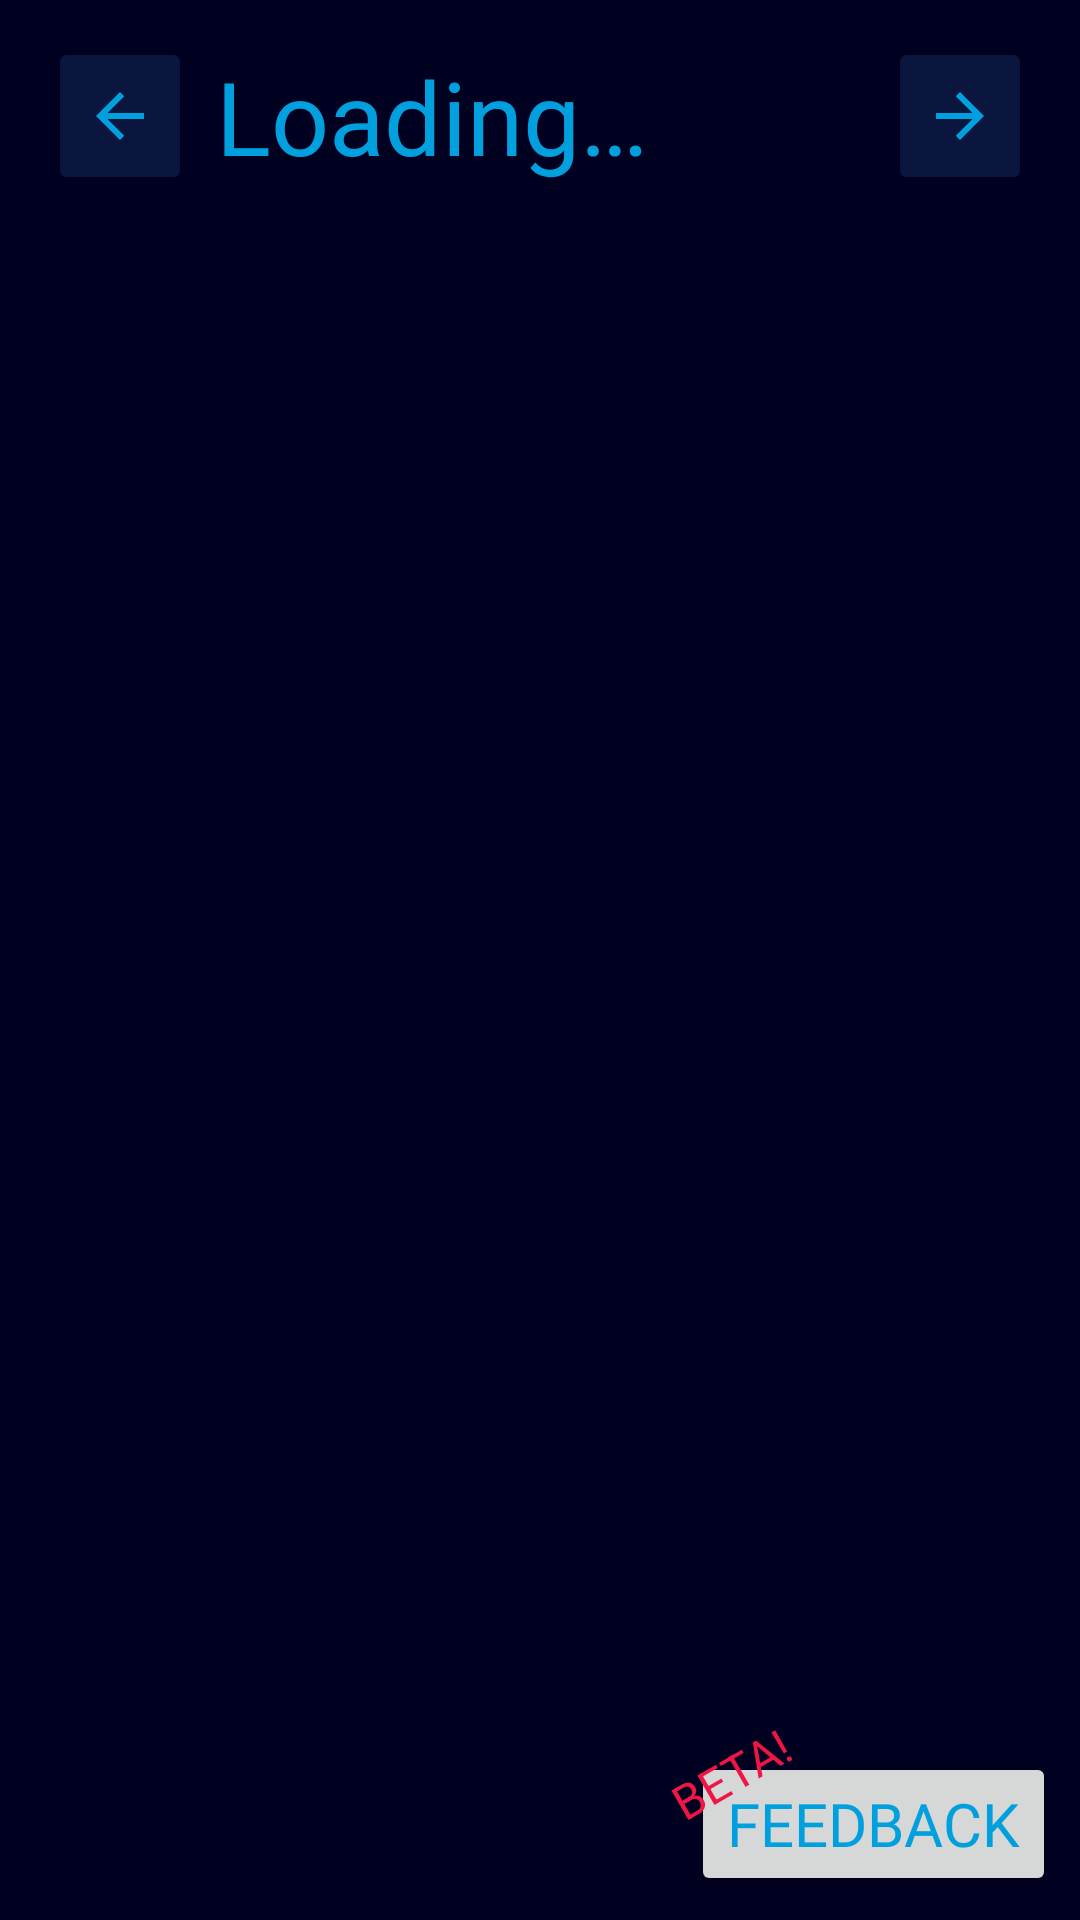

Icon bounding boxes for this 1080 x 1920 phone screenshot, format (left=x1, top=y1, right=x2, bottom=y2):
google baseline arrow back: (left=60, top=55, right=180, bottom=177)
google baseline arrow forward: (left=900, top=55, right=1020, bottom=177)
